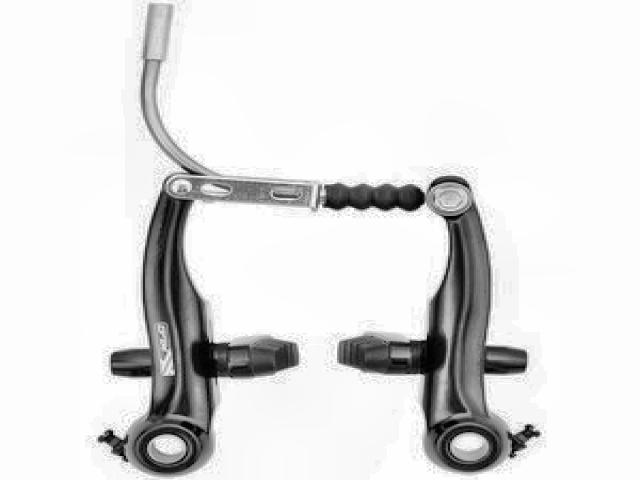rim_brake: (100, 170, 533, 475)
